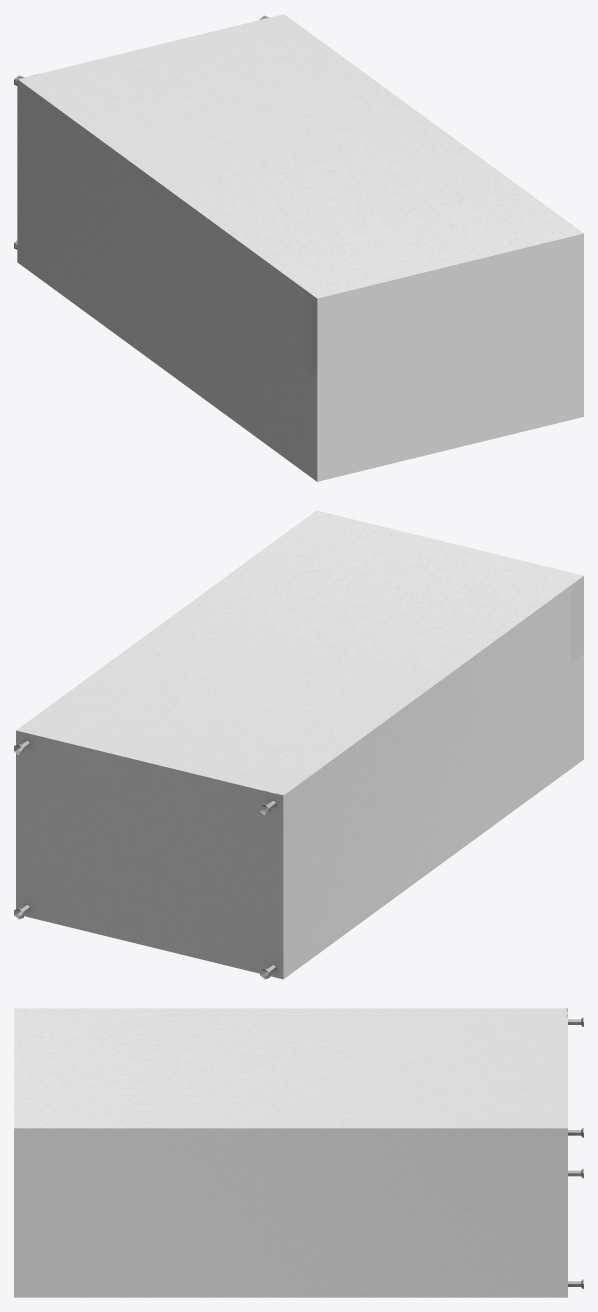
Rendered from vend.obj.
3 renders of one model, top to bottom at view 1: azimuth 30°, elevation 25°; view 2: azimuth 150°, elevation 25°; view 3: azimuth 270°, elevation 25°, orthographic. The views are drawn at different scales.
Visible parts, largest first — view 1: vend_Cube.001; view 2: vend_Cube.001; view 3: vend_Cube.001.
Boxes of the visible parts, x1=… form: vend_Cube.001: x1=14, y1=14, x2=583, y2=481; vend_Cube.001: x1=14, y1=510, x2=583, y2=979; vend_Cube.001: x1=14, y1=1008, x2=583, y2=1297.
Size of the model in its own units: 0.9137 by 0.6135 by 1.83.
